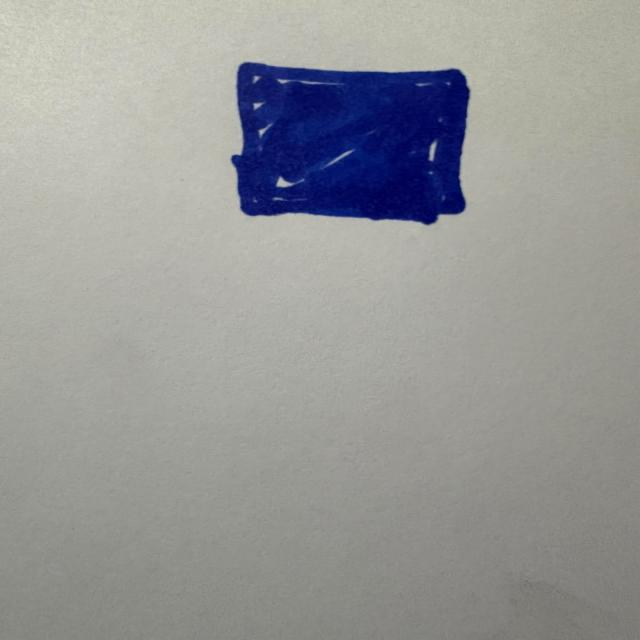Square: (231, 62, 469, 224)
